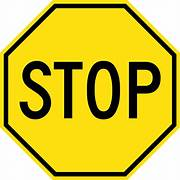stop: (1, 1, 180, 179)
